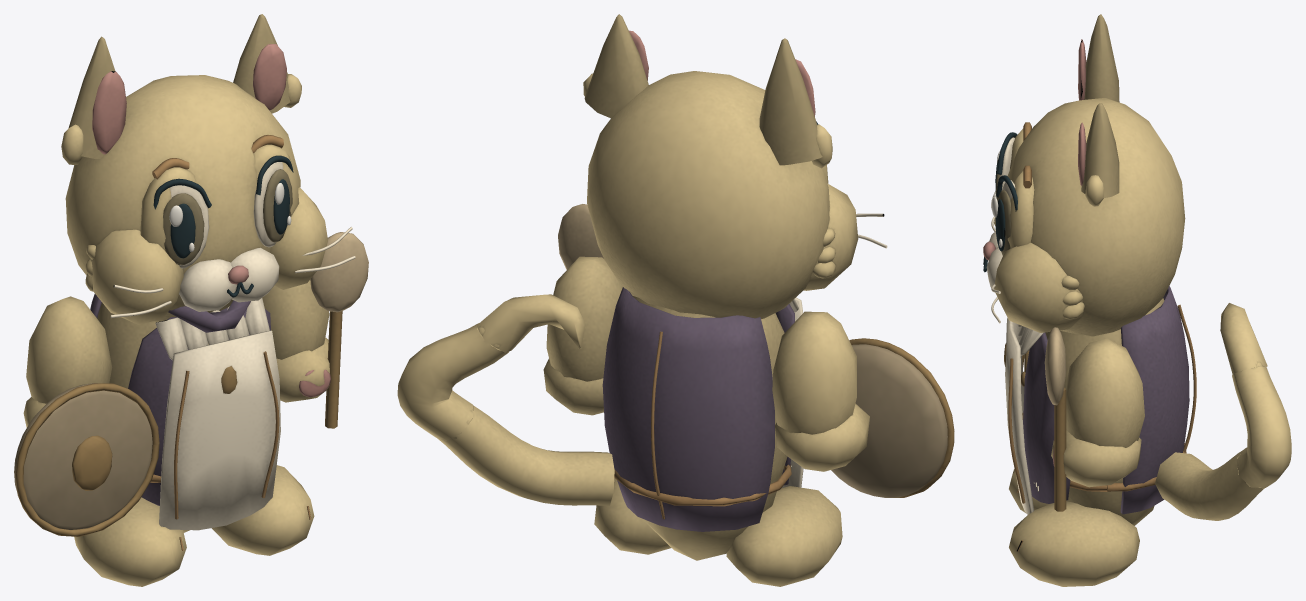
File: brioche.glb
3 renders of one model, left to right at view 1: azimuth 30°, elevation 25°; view 2: azimuth 150°, elevation 25°; view 3: azimuth 270°, elevation 25°, orthographic. The views are drawn at different scales.
Visible parts, largest first — view 1: cheek-head, pear-body, ceramic-serving-shield, arm, porcelain-eye, hind-paw, arm.001, rounded-ear-L, serving-spoon-handle, hind-paw.001, rounded-ear-R, nose; view 2: cheek-head, pear-body, ceramic-serving-shield, arm, tail-root, hind-paw, arm.001, tail-mid, rounded-ear-L, rounded-ear-R, tail-tip, hind-paw.001 (+1 smaller); view 3: cheek-head, pear-body, arm.001, hind-paw.001, tail-mid, tail-root, rounded-ear-R, serving-spoon-handle, rounded-ear-L, tail-tip, porcelain-eye.
Part boxes in pixels (x1,y1,x2,y2): cheek-head: [65, 75, 355, 324]; pear-body: [90, 294, 280, 532]; ceramic-serving-shield: [14, 383, 159, 536]; arm: [23, 296, 112, 427]; porcelain-eye: [153, 155, 293, 268]; hind-paw: [74, 497, 186, 586]; arm.001: [262, 280, 331, 402]; rounded-ear-L: [61, 36, 126, 164]; serving-spoon-handle: [310, 232, 368, 428]; hind-paw.001: [211, 465, 314, 555]; rounded-ear-R: [233, 14, 301, 113]; nose: [227, 265, 253, 297]; cheek-head: [587, 71, 887, 318]; pear-body: [602, 287, 803, 560]; ceramic-serving-shield: [831, 338, 954, 497]; arm: [772, 311, 869, 471]; tail-root: [437, 405, 614, 505]; hind-paw: [726, 486, 842, 586]; arm.001: [543, 256, 622, 415]; tail-mid: [397, 323, 508, 440]; rounded-ear-L: [759, 38, 832, 168]; rounded-ear-R: [583, 14, 648, 118]; tail-tip: [476, 294, 585, 352]; hind-paw.001: [594, 478, 671, 554]; cheek-head: [986, 98, 1185, 336]; pear-body: [1004, 286, 1196, 525]; arm.001: [1051, 338, 1144, 487]; hind-paw.001: [1009, 502, 1139, 586]; tail-mid: [1232, 366, 1291, 488]; tail-root: [1155, 449, 1264, 520]; rounded-ear-R: [1078, 103, 1119, 206]; serving-spoon-handle: [1044, 327, 1066, 511]; rounded-ear-L: [1078, 14, 1119, 102]; tail-tip: [1220, 303, 1267, 374]; porcelain-eye: [992, 132, 1017, 255].
Size of the model in its own units: 1.53 by 1.92 by 1.07.
1 material, 1 textured.
